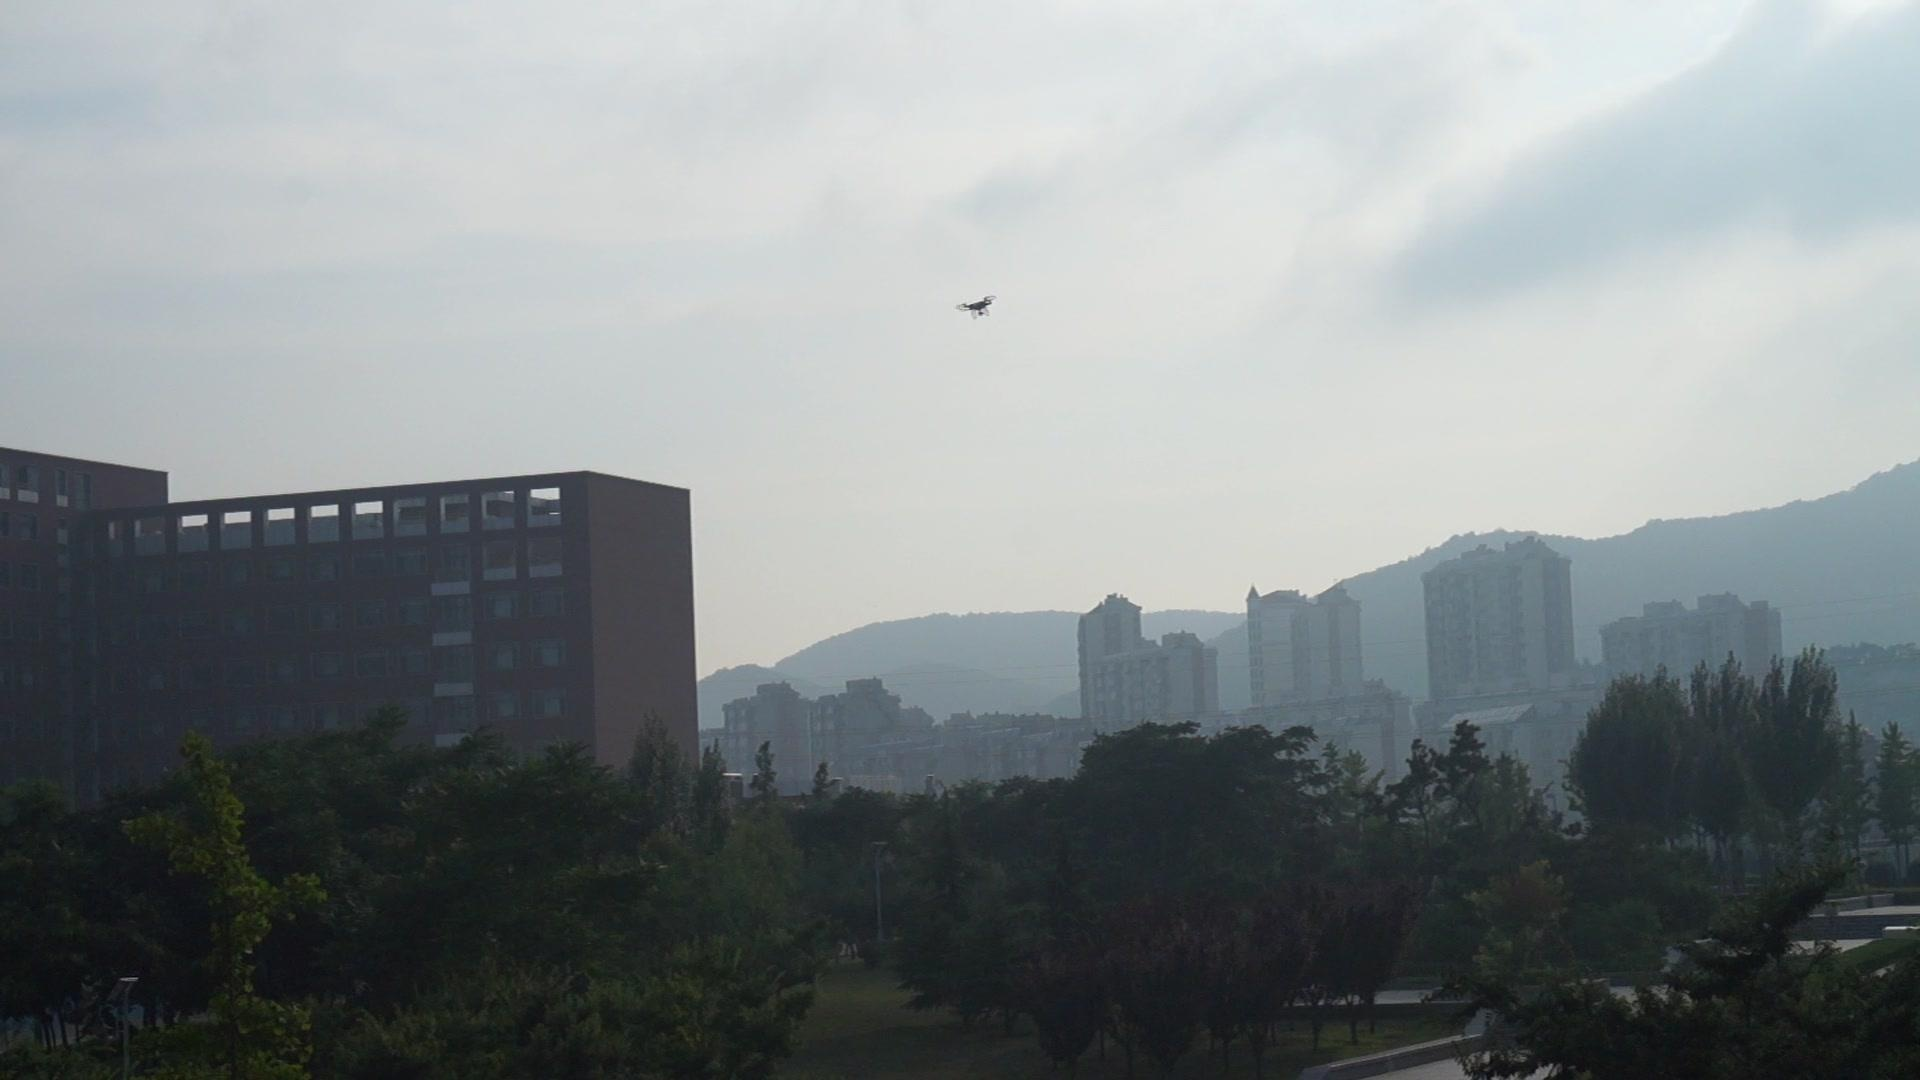UAV: (956, 295, 998, 320)
